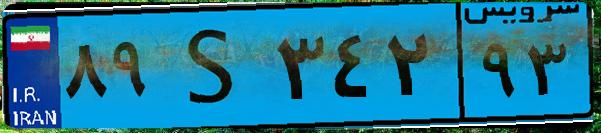2: (385, 28, 445, 110)
3: (270, 28, 330, 110), (525, 38, 570, 115)
4: (330, 28, 385, 110)
8: (57, 26, 110, 100)
9: (475, 38, 525, 113), (110, 28, 158, 98)
S: (158, 12, 270, 120)
